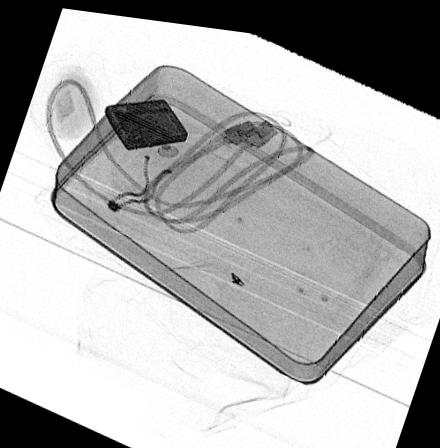Lighter: (103, 94, 188, 146)
